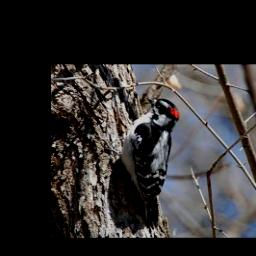Woodpecker: (118, 94, 182, 228)
